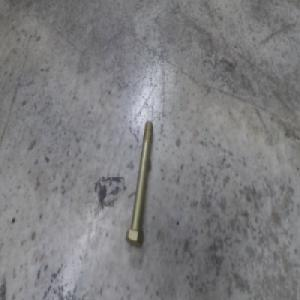Bolt: (127, 121, 153, 248)
